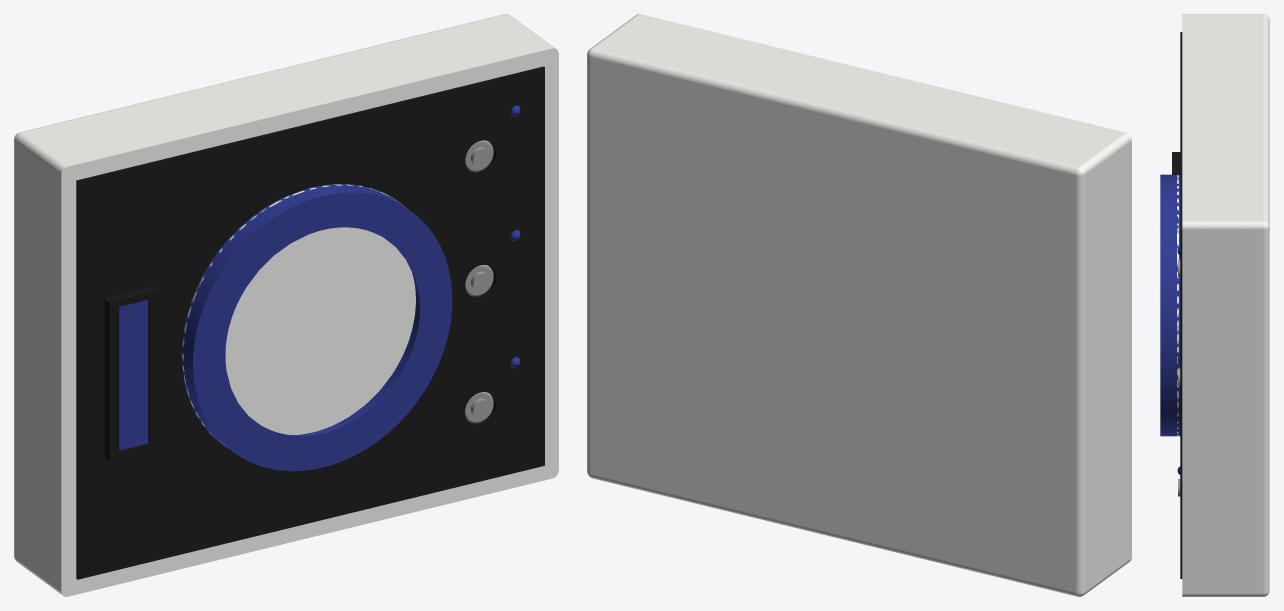
Rendered from gauge-digitalTwin-noTex-noAnim.fbx.
The picture shows the model from 3 angles, left to right: view 1: azimuth 30°, elevation 25°; view 2: azimuth 150°, elevation 25°; view 3: azimuth 270°, elevation 25°; orthographic projection. The views are drawn at different scales.
Visible parts, largest first — view 1: Body1 (×6), deviceRim, screenRim, screenBlue; view 2: deviceFloor, deviceRim, gaugeFloor, gaugeRim, servoModel; view 3: deviceRim, Body1 (×3), screenRim.
Part boxes in pixels (x1,y1,x2,y2): Body1 (×6): (76, 66, 544, 579); deviceRim: (14, 14, 558, 596); screenRim: (104, 286, 159, 460); screenBlue: (119, 300, 148, 450); deviceFloor: (599, 69, 1066, 580); deviceRim: (587, 14, 1131, 596); gaugeFloor: (703, 185, 962, 464); gaugeRim: (703, 185, 962, 463); servoModel: (813, 279, 895, 363); deviceRim: (1182, 14, 1269, 596); Body1 (×3): (1160, 32, 1182, 578); screenRim: (1172, 152, 1180, 174).
Bounding box in the file's own units: 230 × 190 × 50.11.
